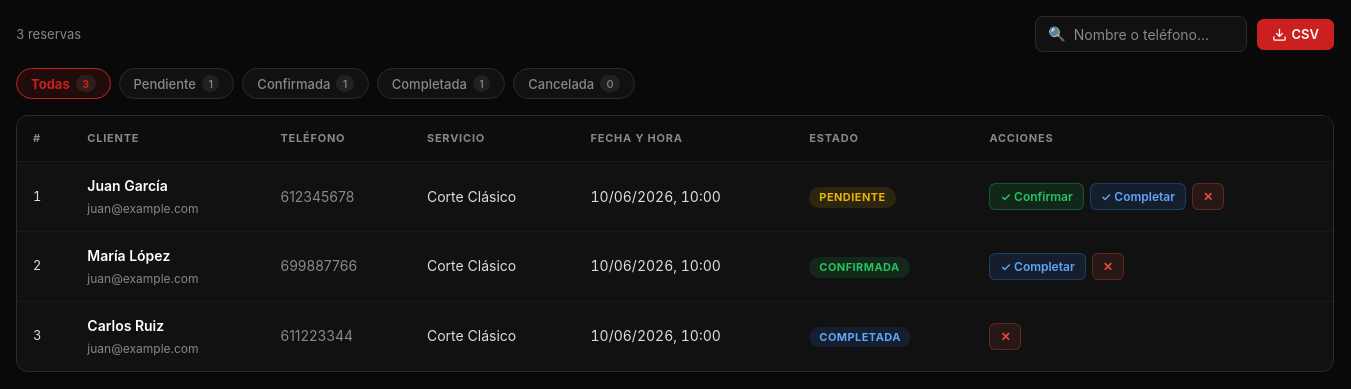
AdminReservas › filtra reservas por nombre al escribir en el buscador
Expected: the text "Juan García" is shown, left=87, top=177, right=168, bottom=194
In the search field named "buscar reserva": (1154, 34) left=1074, top=26, right=1234, bottom=43, type "María"
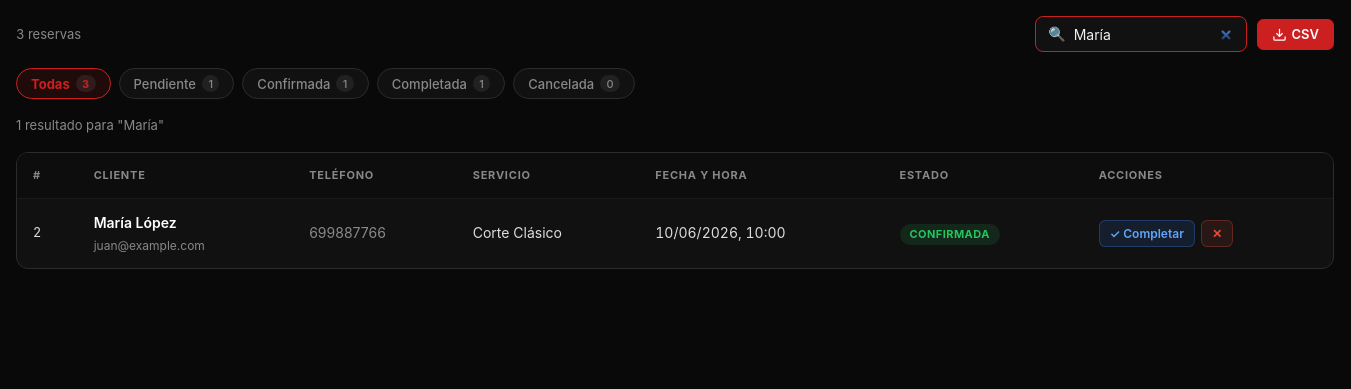
Expected: the text "María López" is shown, left=94, top=214, right=177, bottom=231
Now the text "Juan García" is gone
